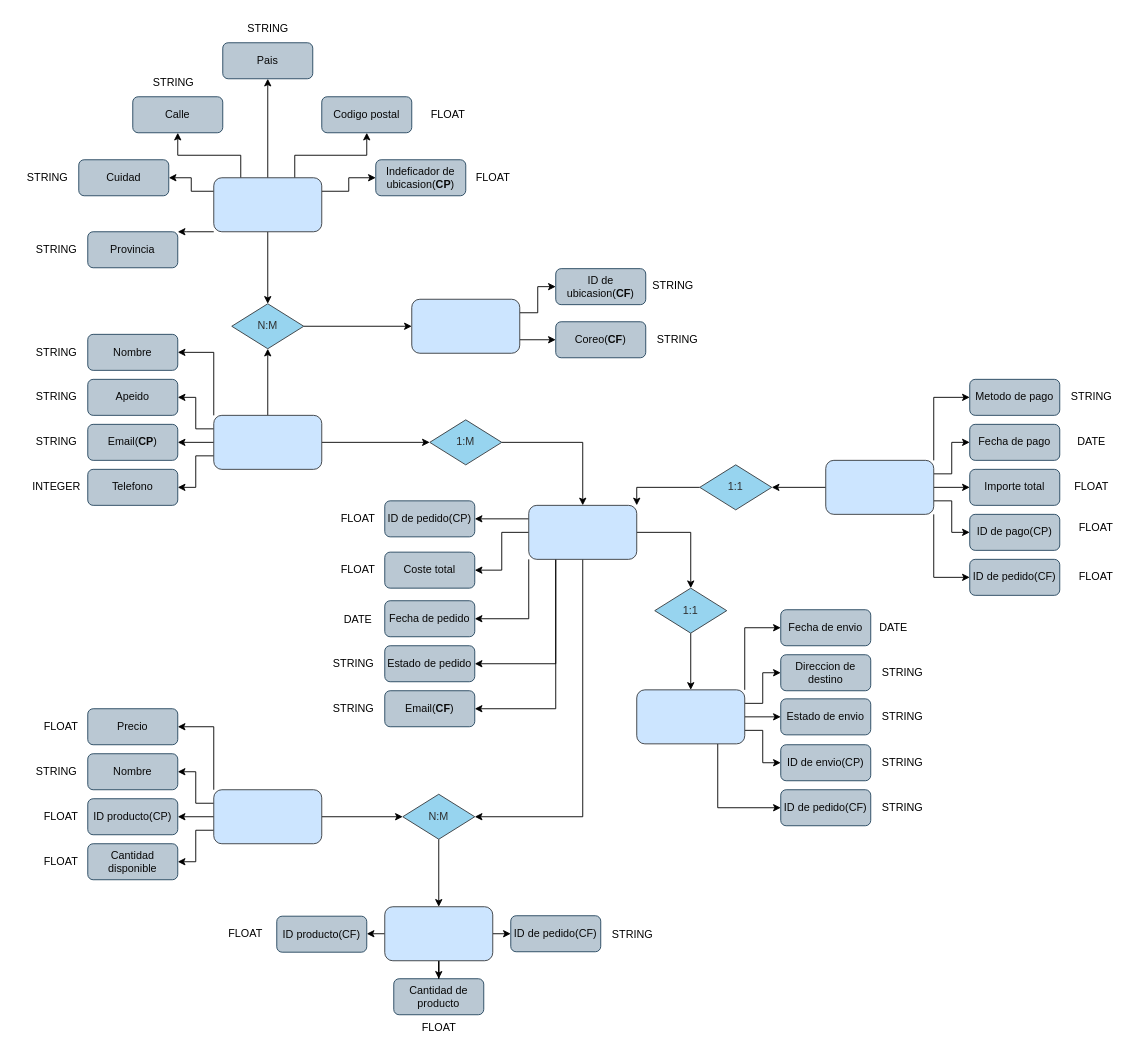
Some shapes in this 1138 by 1057 pixel diagram are drawn without their labels. The box of each missing label's shape, as (x1, y1, x2, y2) in pixels:
Cliente Dirrecion: (411, 298, 520, 353)
Clientes: (213, 414, 322, 469)
Detalle de pedido: (384, 906, 493, 961)
Direccion: (213, 177, 322, 232)
Envios: (636, 689, 745, 744)
Pagos: (825, 459, 934, 514)
Pedidos: (528, 504, 637, 559)
Productos: (213, 789, 322, 844)
